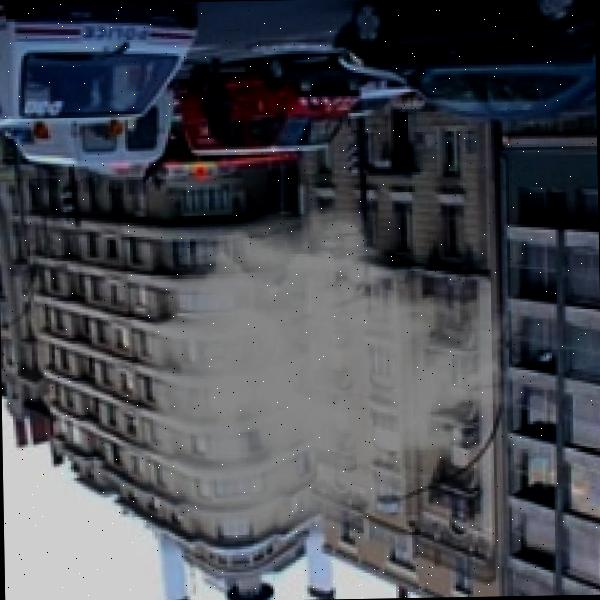smoke: (112, 201, 532, 551)
